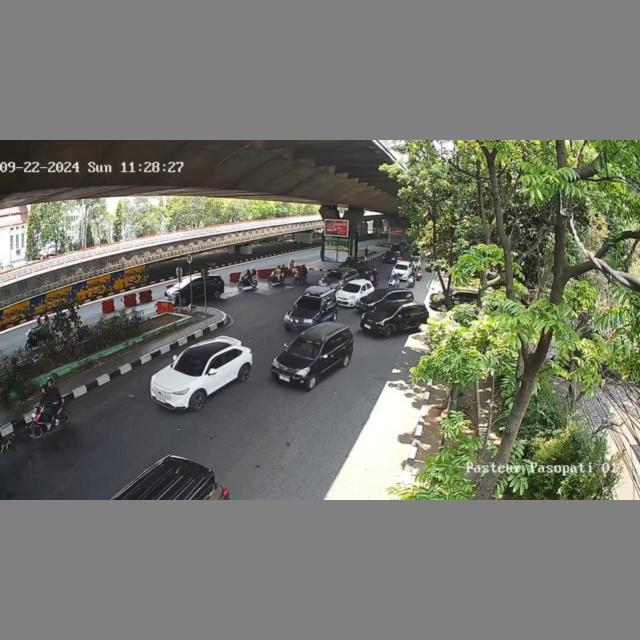windshield: (172, 349, 210, 377), (287, 334, 326, 358), (294, 297, 322, 311), (372, 303, 399, 316), (342, 283, 361, 293), (326, 271, 344, 281), (368, 289, 385, 297)
